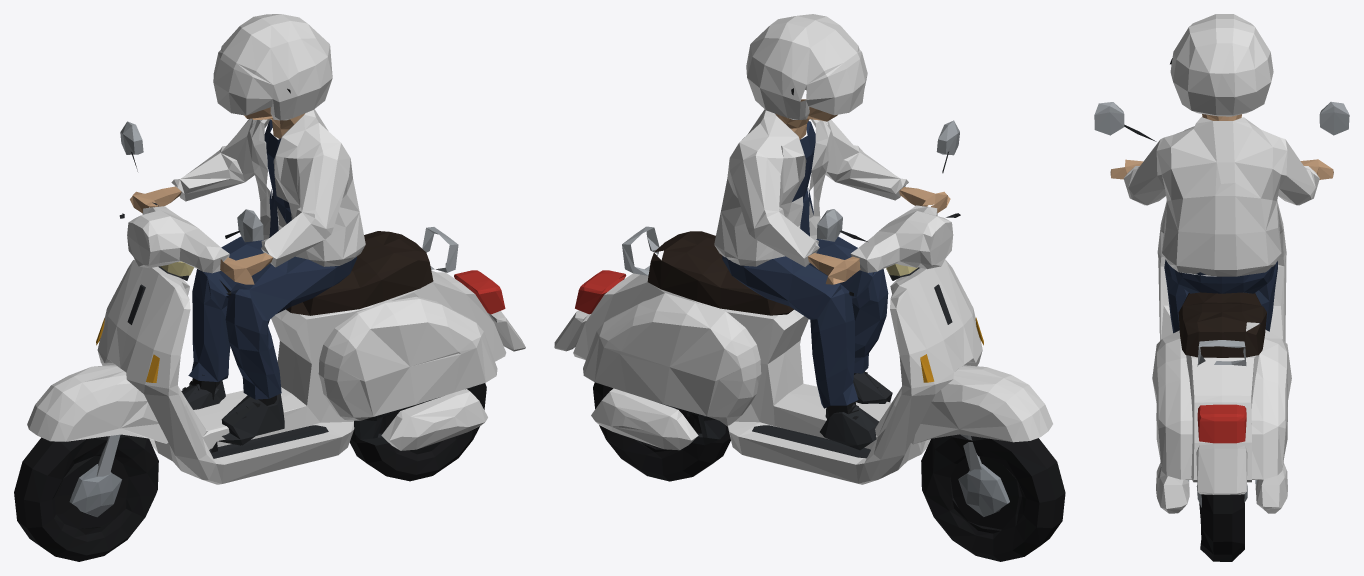
The model's file is scooter.glb.
3 views of the same model, side by side, from view 1: azimuth 30°, elevation 25°; view 2: azimuth 150°, elevation 25°; view 3: azimuth 270°, elevation 25° (orthographic). The views are drawn at different scales.
Bounding box in the file's own units: 0.9514 × 0.8911 × 0.4413.
